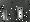person: (18, 8, 24, 20), (5, 11, 11, 21)
